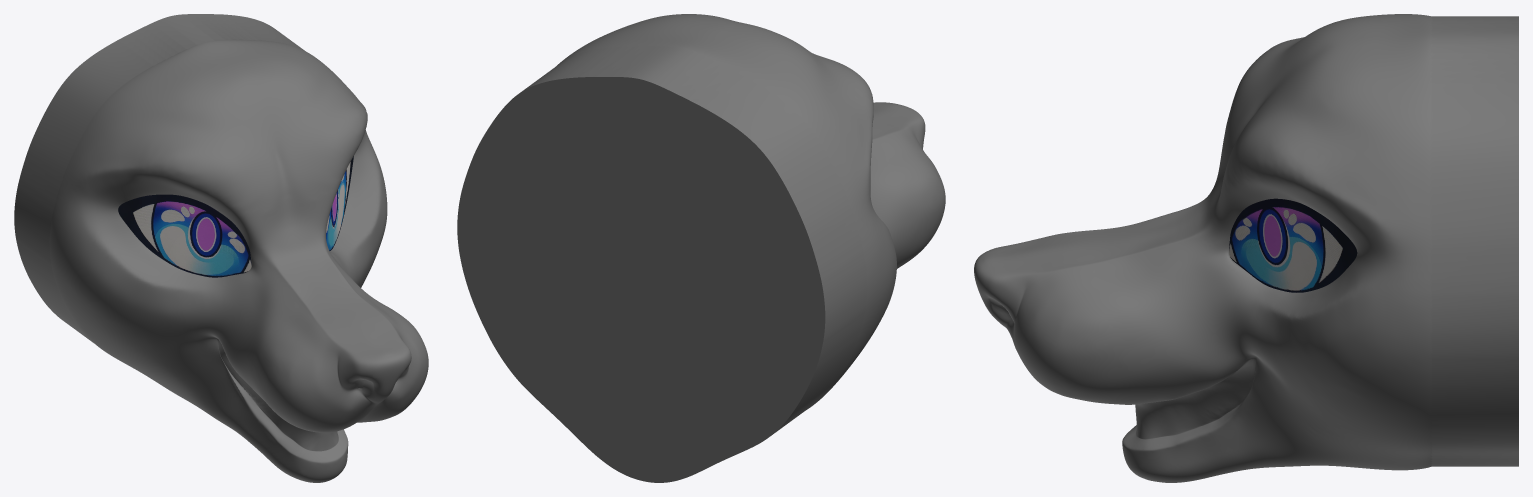
The model's file is slim_canine_hq.glb.
The picture shows the model from 3 angles, left to right: view 1: azimuth 30°, elevation 25°; view 2: azimuth 150°, elevation 25°; view 3: azimuth 270°, elevation 25°; orthographic projection. The views are drawn at different scales.
Parts seen in each view (by area): view 1: SLIM_BASE.001, EYES.001; view 2: SLIM_BASE.001; view 3: SLIM_BASE.001, EYES.001.
Boxes of the visible parts, box(x1,y1,x2,y2) form: SLIM_BASE.001: box(14, 14, 428, 482); EYES.001: box(118, 156, 353, 277); SLIM_BASE.001: box(457, 14, 945, 482); SLIM_BASE.001: box(974, 14, 1518, 482); EYES.001: box(1229, 198, 1357, 292).
Bounding box in the file's own units: 12.3 × 13.33 × 15.
Materials: 2 (1 with a texture image).
